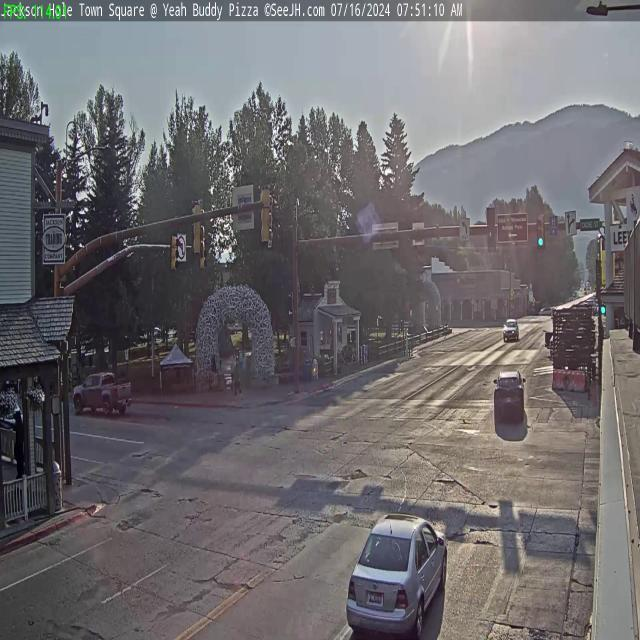person: (232, 353, 240, 398)
pickup: (76, 368, 130, 416)
sedan: (343, 510, 451, 640)
suv: (492, 370, 527, 422), (502, 316, 520, 341)
traffic light: (260, 183, 273, 246), (190, 199, 203, 256), (486, 206, 496, 251), (170, 234, 179, 272), (537, 214, 545, 248)
